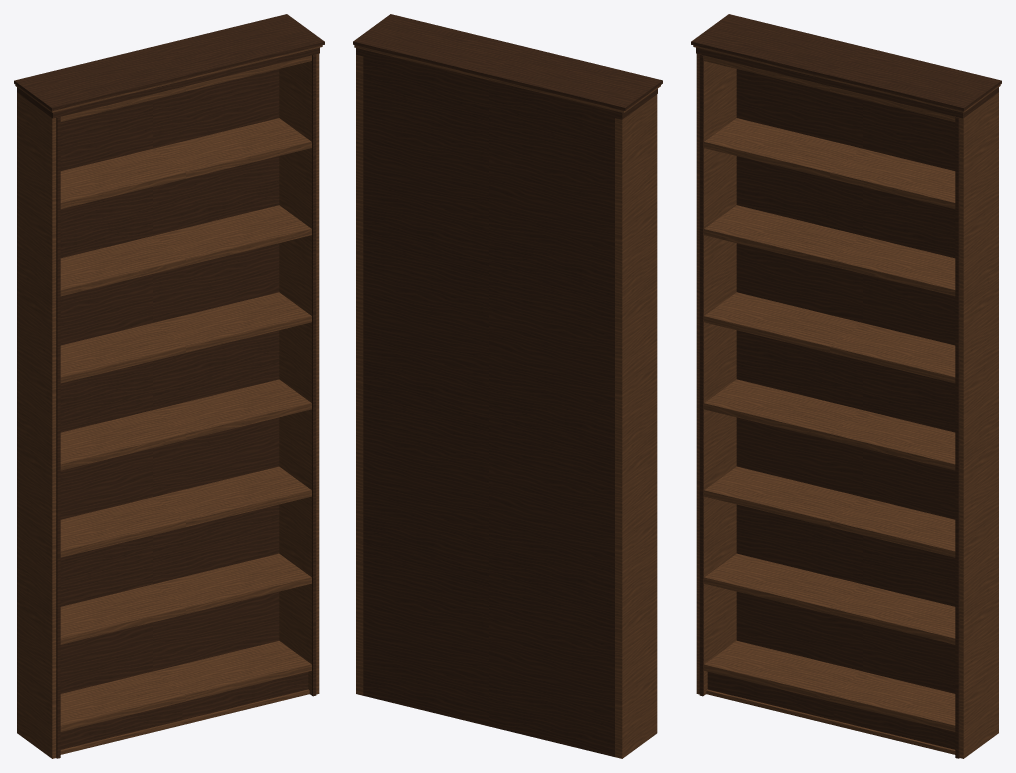
Rendered from ShelfBay.glb.
3 views of the same model, side by side, from view 1: azimuth 30°, elevation 25°; view 2: azimuth 150°, elevation 25°; view 3: azimuth 330°, elevation 25° (orthographic).
Parts seen in each view (by area): view 1: ShelfBay; view 2: ShelfBay; view 3: ShelfBay.
Boxes of the visible parts, x1,y1,x2,y2 form: ShelfBay: [14, 14, 324, 758]; ShelfBay: [353, 14, 662, 758]; ShelfBay: [691, 14, 1001, 758].
Size of the model in its own units: 0.918 by 2.1 by 0.22.
2 materials, 2 textured.
